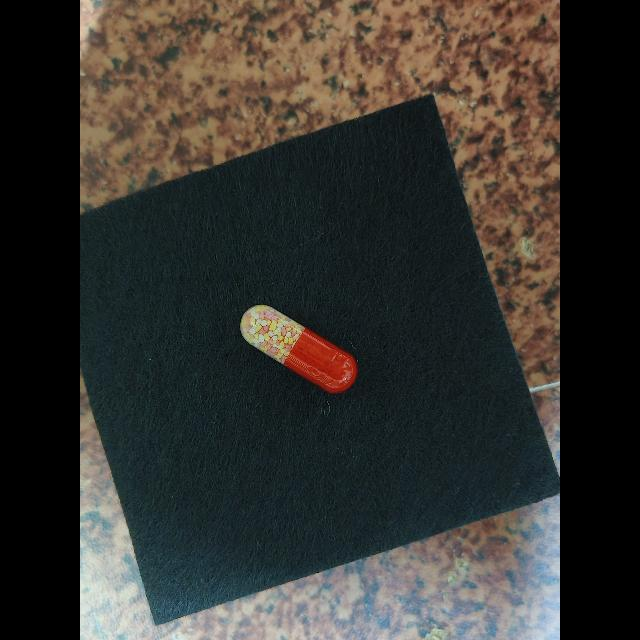Intact Capsule: (240, 304, 357, 393)
